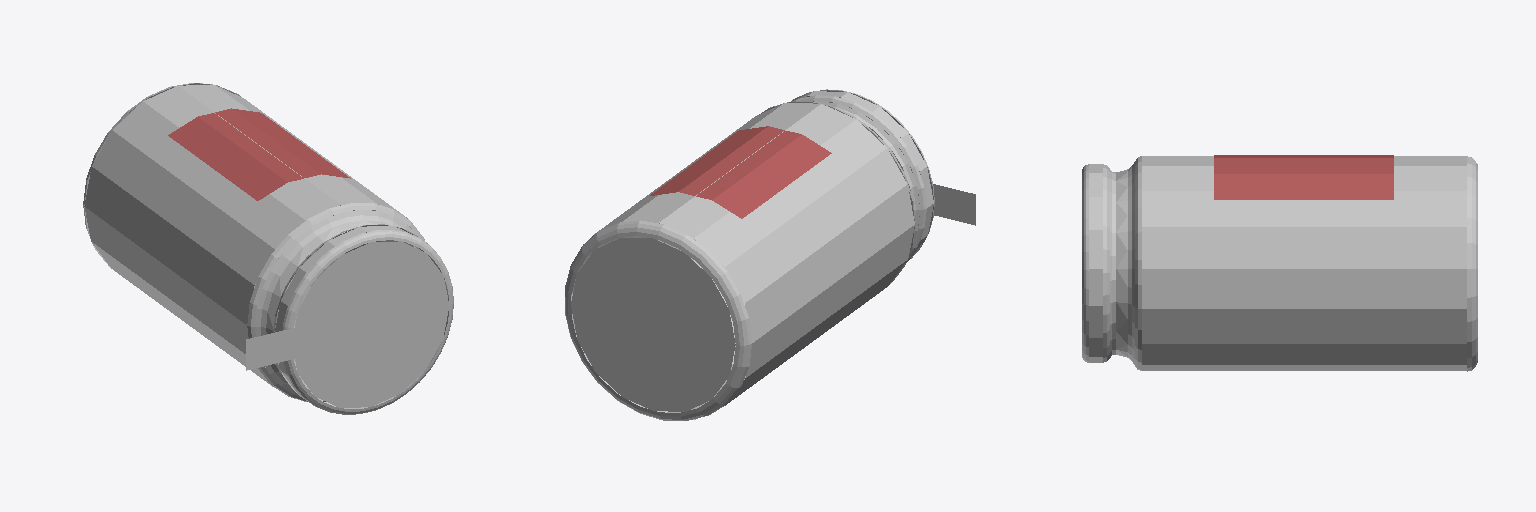
3 renders of one model, left to right at view 1: azimuth 30°, elevation 25°; view 2: azimuth 150°, elevation 25°; view 3: azimuth 270°, elevation 25°, orthographic.
Parts seen in each view (by area): view 1: ShapeIndexedFaceSet.001_ShapeIndexedFaceSet.002, ShapeIndexedFaceSet.005_ShapeIndexedFaceSet.006, ShapeIndexedFaceSet.004_ShapeIndexedFaceSet.005, ShapeIndexedFaceSet.006_ShapeIndexedFaceSet, ShapeIndexedFaceSet_ShapeIndexedFaceSet.001, ShapeIndexedFaceSet.002_ShapeIndexedFaceSet.003; view 2: ShapeIndexedFaceSet.001_ShapeIndexedFaceSet.002, ShapeIndexedFaceSet.003_ShapeIndexedFaceSet.004, ShapeIndexedFaceSet.006_ShapeIndexedFaceSet, ShapeIndexedFaceSet.002_ShapeIndexedFaceSet.003, ShapeIndexedFaceSet.004_ShapeIndexedFaceSet.005, ShapeIndexedFaceSet_ShapeIndexedFaceSet.001; view 3: ShapeIndexedFaceSet.001_ShapeIndexedFaceSet.002, ShapeIndexedFaceSet.004_ShapeIndexedFaceSet.005, ShapeIndexedFaceSet.006_ShapeIndexedFaceSet, ShapeIndexedFaceSet.002_ShapeIndexedFaceSet.003.
Boxes of the visible parts, <box> form: ShapeIndexedFaceSet.001_ShapeIndexedFaceSet.002: <box>84,85,413,389</box>; ShapeIndexedFaceSet.005_ShapeIndexedFaceSet.006: <box>292,241,448,407</box>; ShapeIndexedFaceSet.004_ShapeIndexedFaceSet.005: <box>247,203,453,414</box>; ShapeIndexedFaceSet.006_ShapeIndexedFaceSet: <box>168,108,350,200</box>; ShapeIndexedFaceSet_ShapeIndexedFaceSet.001: <box>246,311,370,370</box>; ShapeIndexedFaceSet.002_ShapeIndexedFaceSet.003: <box>83,83,240,267</box>; ShapeIndexedFaceSet.001_ShapeIndexedFaceSet.002: <box>571,103,914,419</box>; ShapeIndexedFaceSet.003_ShapeIndexedFaceSet.004: <box>571,238,735,411</box>; ShapeIndexedFaceSet.006_ShapeIndexedFaceSet: <box>650,126,831,218</box>; ShapeIndexedFaceSet.002_ShapeIndexedFaceSet.003: <box>565,220,751,420</box>; ShapeIndexedFaceSet.004_ShapeIndexedFaceSet.005: <box>759,89,934,283</box>; ShapeIndexedFaceSet_ShapeIndexedFaceSet.001: <box>908,184,975,225</box>; ShapeIndexedFaceSet.001_ShapeIndexedFaceSet.002: <box>1142,156,1466,370</box>; ShapeIndexedFaceSet.004_ShapeIndexedFaceSet.005: <box>1082,156,1141,370</box>; ShapeIndexedFaceSet.006_ShapeIndexedFaceSet: <box>1214,155,1393,199</box>; ShapeIndexedFaceSet.002_ShapeIndexedFaceSet.003: <box>1467,156,1477,371</box>.
Size of the model in its own units: 4.45 by 3.81 by 7.